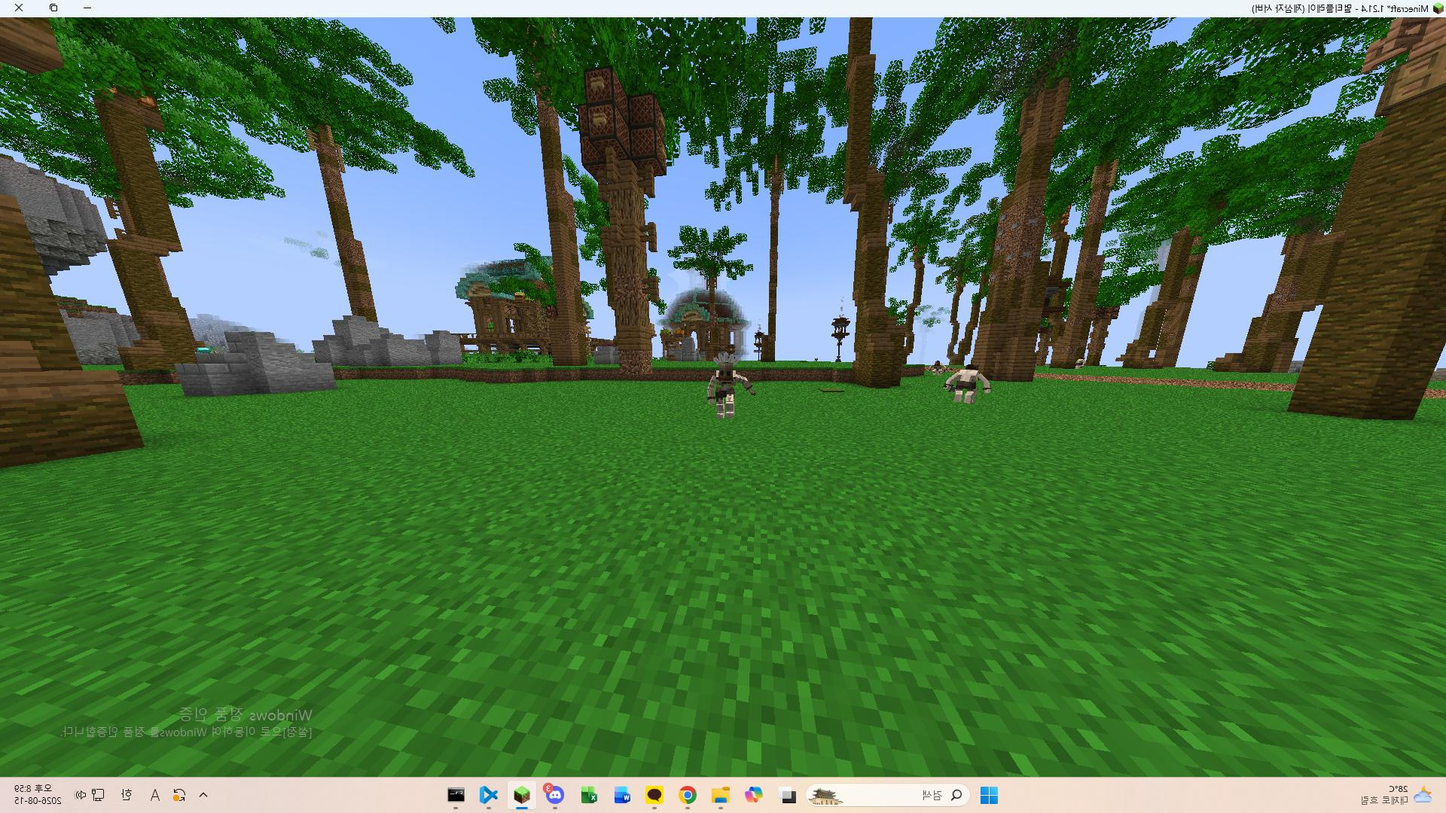bow_indian: (694, 353, 761, 432)
